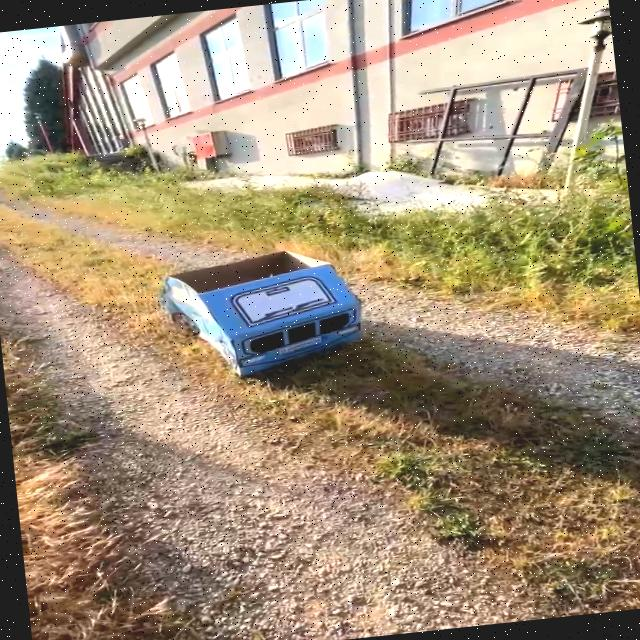blue_car: (127, 224, 437, 409)
